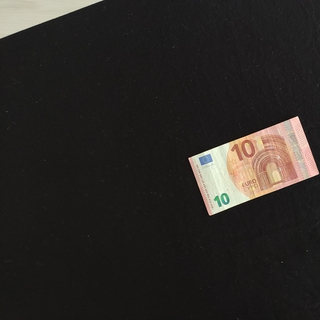10EUROFront: (187, 116, 319, 215)
